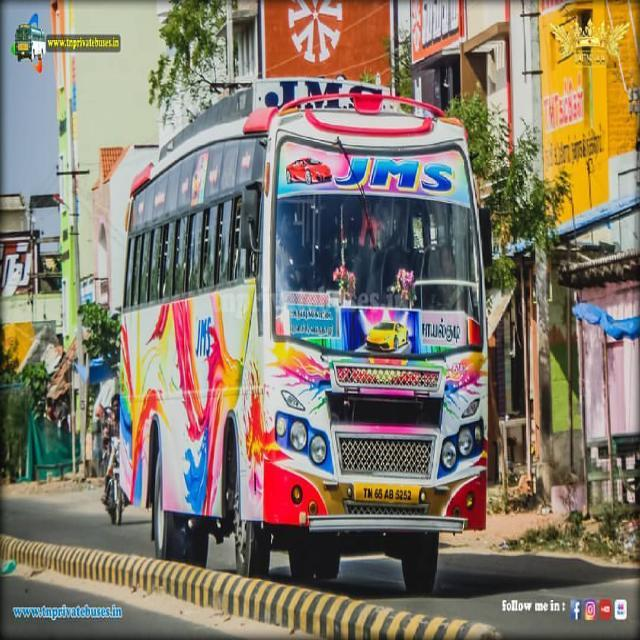Bus: (118, 76, 494, 590)
